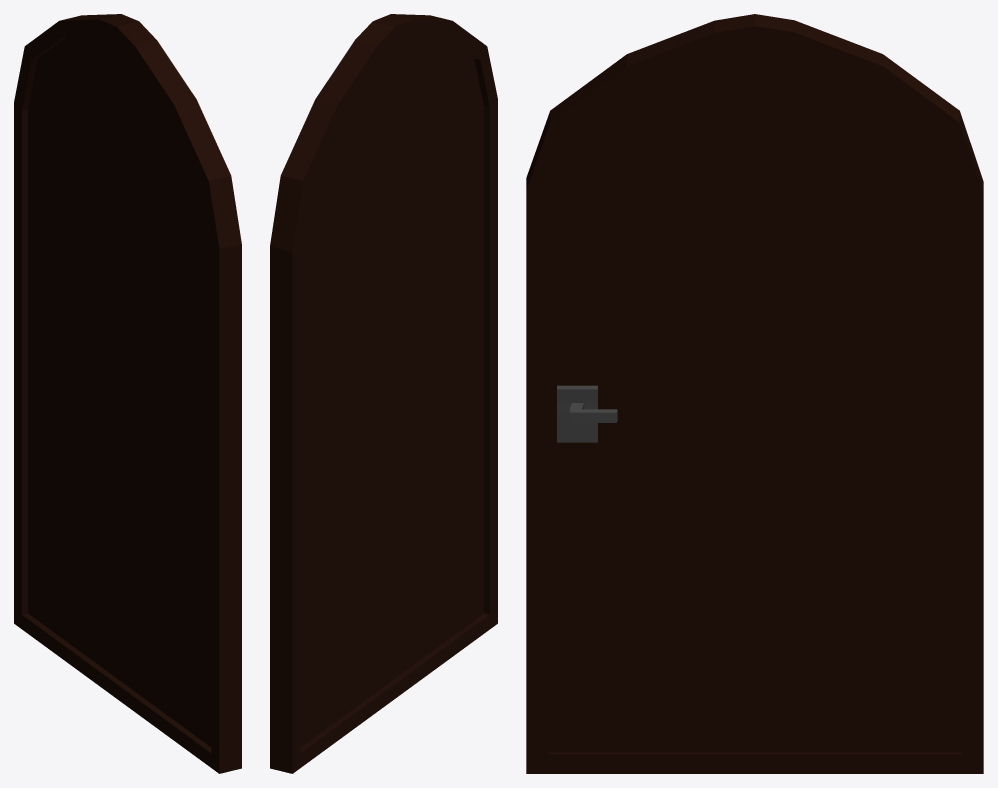
Rendered from MausoleumDoorV1.fbx.
The picture shows the model from 3 angles, left to right: view 1: azimuth 30°, elevation 25°; view 2: azimuth 150°, elevation 25°; view 3: azimuth 270°, elevation 25°; orthographic projection. The views are drawn at different scales.
Visible parts, largest first — view 1: Door; view 2: Door; view 3: Door.
Part boxes in pixels (x1,y1,x2,y2): Door: (14, 14, 241, 773); Door: (270, 14, 497, 773); Door: (526, 14, 983, 773).
Bounding box in the file's own units: 17.53 × 270 × 150.
